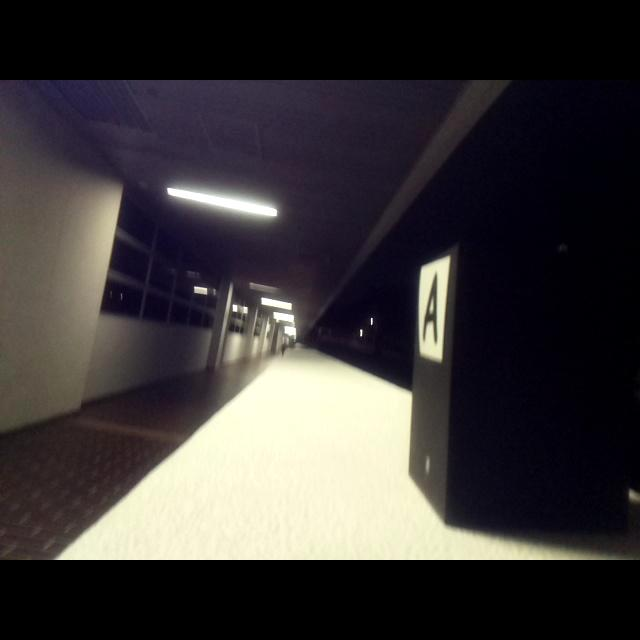A: (422, 273, 438, 344)
